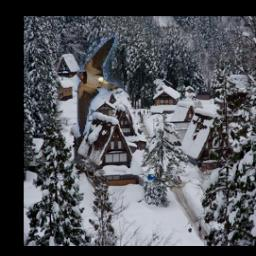Swallow: (77, 37, 139, 137)
